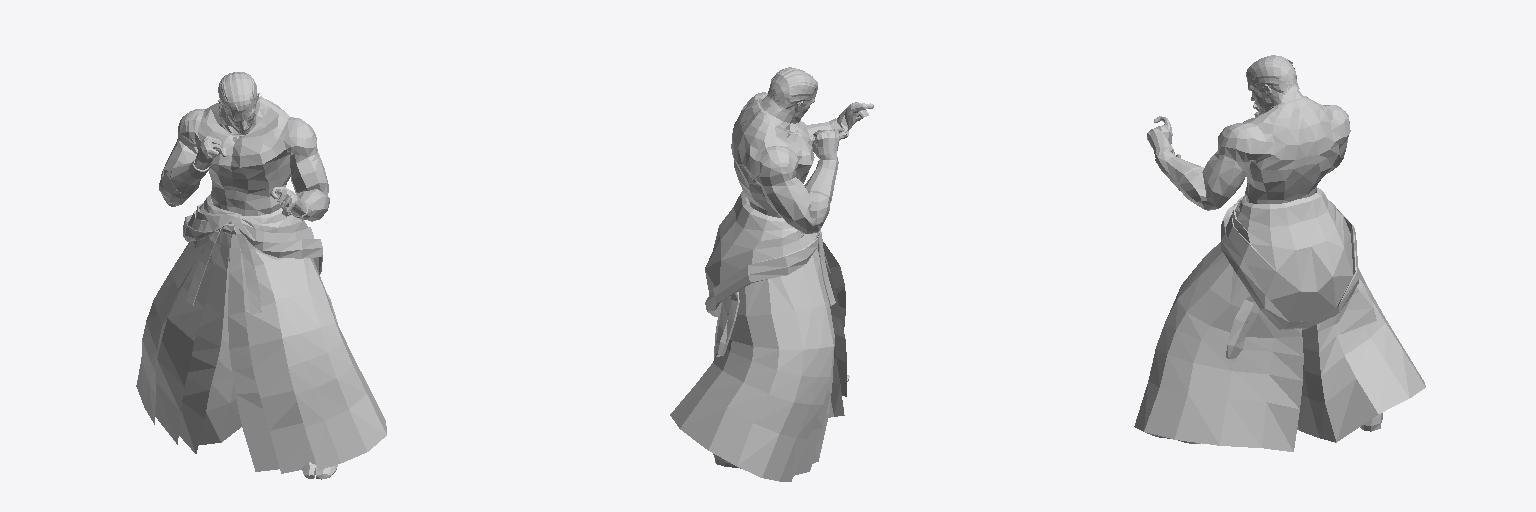
The model's file is geese_attack_000003.obj.
3 renders of one model, left to right at view 1: azimuth 30°, elevation 25°; view 2: azimuth 150°, elevation 25°; view 3: azimuth 270°, elevation 25°, orthographic.
Parts seen in each view (by area): view 1: GamemodelShape1.002, hairShape; view 2: GamemodelShape1.002, hairShape; view 3: GamemodelShape1.002, hairShape.
Boxes of the visible parts, <box> form: GamemodelShape1.002: <box>136,93,386,479</box>; hairShape: <box>218,72,256,111</box>; GamemodelShape1.002: <box>670,91,873,481</box>; hairShape: <box>764,67,817,111</box>; GamemodelShape1.002: <box>1134,77,1425,451</box>; hairShape: <box>1246,55,1299,94</box>.
Size of the model in its own units: 2.19 by 4.9 by 3.43.